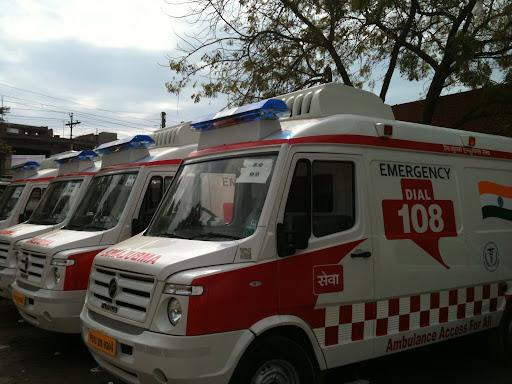Emergency-Vehicles: (6, 110, 511, 364)
